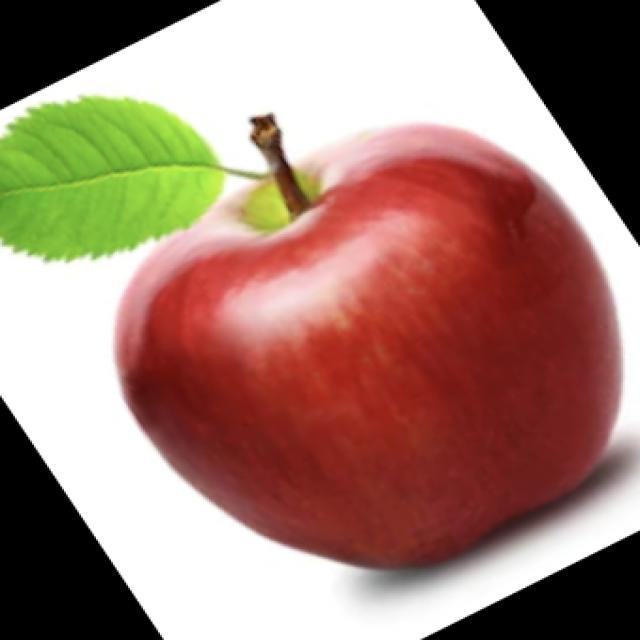Fresh Apple: (113, 122, 624, 574)
